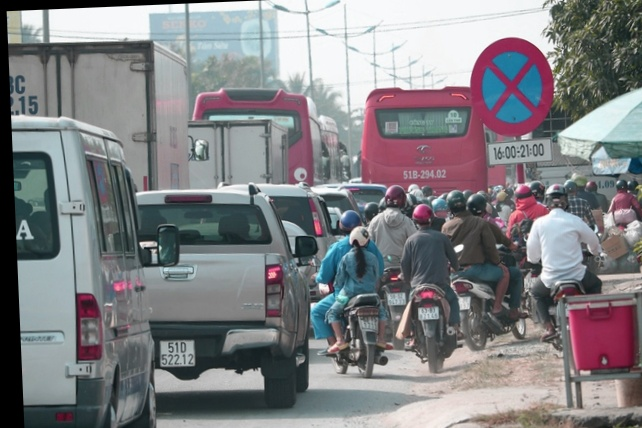Bien-so: (153, 321, 190, 356), (356, 299, 375, 318), (414, 292, 436, 308), (385, 278, 404, 292), (457, 282, 467, 296)
